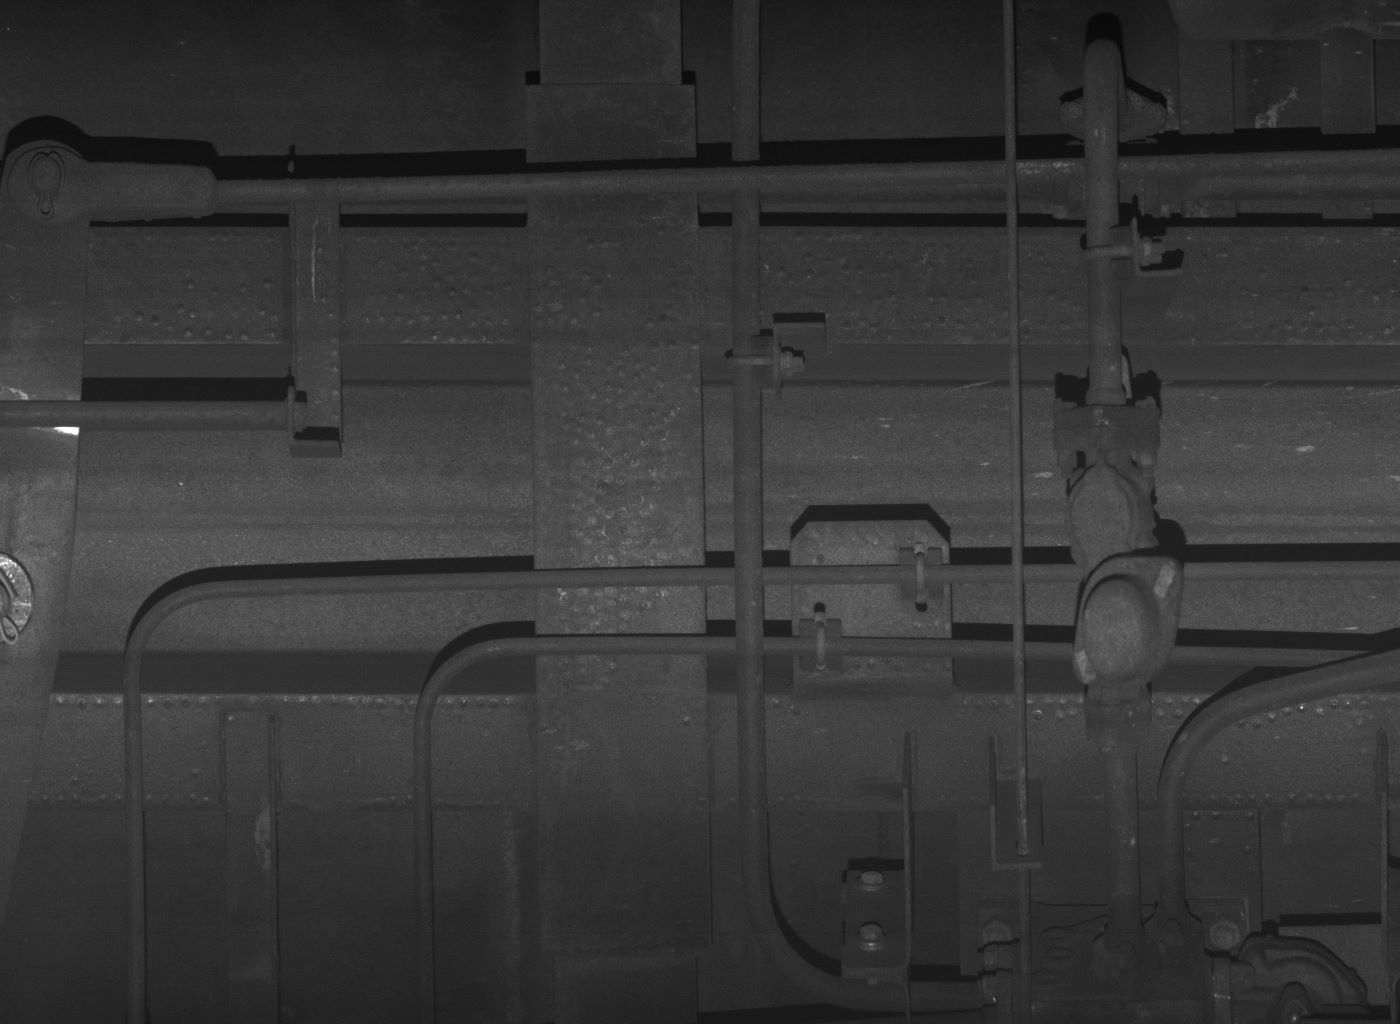normal: (1066, 465, 1160, 569)
